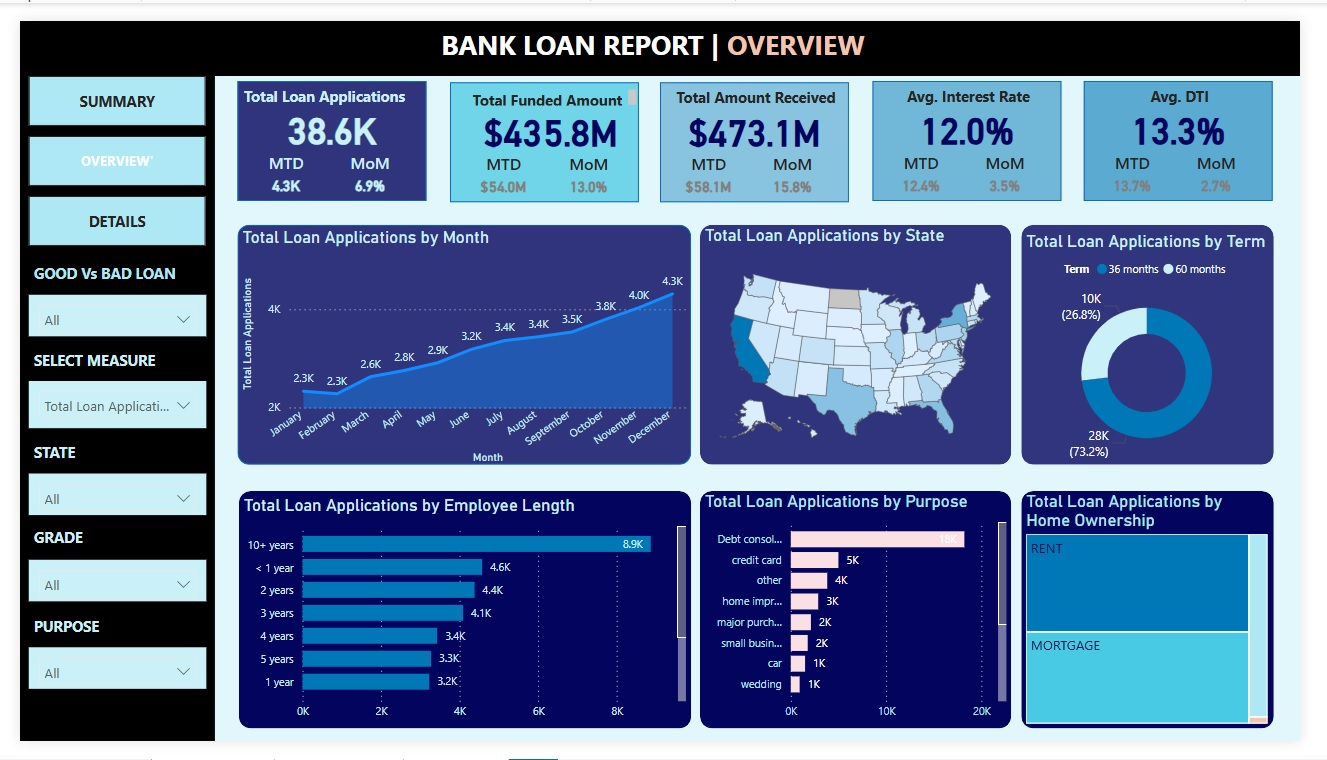

What the dashboard file says about the page in this screenshot:
{"tool":"powerbi","page":{"name":"OVERVIEW'","canvas":[1280,720],"ordinal":1},"visuals":[{"type":"shape","box":[217.8,59.5,189.2,120.2],"z":0,"group":"g1"},{"type":"shape","box":[852.1,59.5,189.2,120.2],"z":0,"group":"g4"},{"type":"shape","box":[1063.9,59.5,189.2,120.2],"z":0,"group":"g5"},{"type":"shape","box":[429.6,60.7,189.2,120.2],"z":0,"group":"g2"},{"type":"shape","box":[640.3,60.7,189.2,120.2],"z":0,"group":"g3"},{"type":"shape","box":[217.5,203.8,453.8,240],"z":0},{"type":"card","fields":{"Values":["Bank_Loan_Data.Total Loan Applications"]},"box":[217.8,84.5,189.2,45.2],"z":1000,"group":"g1"},{"type":"card","fields":{"Values":["Bank_Loan_Data.Avg Interest Rate"]},"box":[852.1,84.5,189.2,45.2],"z":1000,"group":"g4"},{"type":"card","fields":{"Values":["Bank_Loan_Data.Avg DTI"]},"box":[1063.9,84.5,189.2,45.2],"z":1000,"group":"g5"},{"type":"card","fields":{"Values":["Bank_Loan_Data.Total Funded Amount"]},"box":[435.6,85.7,189.2,45.2],"z":1000,"group":"g2"},{"type":"card","fields":{"Values":["Bank_Loan_Data.Total Amount Received"]},"box":[640.3,85.7,189.2,45.2],"z":1000,"group":"g3"},{"type":"shape","box":[0,0,1280.3,55],"z":2000},{"type":"textbox","box":[219,59.5,189.2,32.1],"z":2000,"group":"g1"},{"type":"textbox","box":[853.3,59.5,189.2,32.1],"z":2000,"group":"g4"},{"type":"textbox","box":[1065.1,59.5,189.2,32.1],"z":2000,"group":"g5"},{"type":"textbox","box":[641.5,60.7,189.2,32.1],"z":2000,"group":"g3"},{"type":"textbox","title":"Total Funded Amount","box":[447.3,63,173.8,26.2],"z":2000,"group":"g2"},{"type":"shape","box":[0,55.1,195,665.9],"z":3000},{"type":"card","title":"MTD","fields":{"Values":["Bank_Loan_Data.MTD Loan Applications"]},"box":[228.5,129.7,75,50],"z":3000,"group":"g1"},{"type":"card","title":"MTD","fields":{"Values":["Bank_Loan_Data.MTD Avg Interest Rate"]},"box":[862.8,129.7,75,50],"z":3000,"group":"g4"},{"type":"card","title":"MTD","fields":{"Values":["Bank_Loan_Data.MTD Avg DTI"]},"box":[1074.6,129.7,75,50],"z":3000,"group":"g5"},{"type":"card","title":"MTD","fields":{"Values":["Bank_Loan_Data.MTD Funded Amount"]},"box":[446.3,130.9,75,50],"z":3000,"group":"g2"},{"type":"card","title":"MTD","fields":{"Values":["Bank_Loan_Data.MTD Amount Received"]},"box":[651,130.9,75,50],"z":3000,"group":"g3"},{"type":"card","title":"MoM","fields":{"Values":["Bank_Loan_Data.MoM Loan Applications"]},"box":[313,129.7,75,50],"z":4000,"group":"g1"},{"type":"card","title":"MoM","fields":{"Values":["Bank_Loan_Data.MoM Avg Interest Rate"]},"box":[947.3,129.7,75,50],"z":4000,"group":"g4"},{"type":"card","title":"MoM","fields":{"Values":["Bank_Loan_Data.MoM Avg DTI"]},"box":[1159.1,129.7,75,50],"z":4000,"group":"g5"},{"type":"card","title":"MoM","fields":{"Values":["Bank_Loan_Data.MoM Total Funded Amount"]},"box":[530.8,130.9,75,50],"z":4000,"group":"g2"},{"type":"card","title":"MoM","fields":{"Values":["Bank_Loan_Data.MoM Total Amount Received"]},"box":[735.5,130.9,75,50],"z":4000,"group":"g3"},{"type":"textbox","box":[416.8,0,445.5,56.3],"z":5000},{"type":"group","id":"g1","title":"Group 1","box":[217.8,59.5,190.4,120.2],"z":6000},{"type":"group","id":"g2","title":"Group 1","box":[429.6,60.7,195.2,120.2],"z":7000},{"type":"group","id":"g3","title":"Group 1","box":[640.3,60.7,190.4,120.2],"z":8000},{"type":"group","id":"g4","title":"Group 1","box":[852.1,59.5,190.4,120.2],"z":9000},{"type":"group","id":"g5","title":"Group 1","box":[1063.9,59.5,190.4,120.2],"z":10000},{"type":"shape","box":[680,203.8,311.2,240],"z":11000},{"type":"shape","box":[218.8,470,452.5,237.5],"z":18000},{"type":"slicer","fields":{"Values":["Bank_Loan_Data.address_state"]},"box":[8.8,452.5,177.5,41.2],"z":20000},{"type":"textbox","box":[8.8,416.2,60,36.2],"z":21000},{"type":"slicer","fields":{"Values":["Bank_Loan_Data.grade"]},"box":[8.8,538.8,177.5,41.2],"z":22000},{"type":"slicer","fields":{"Values":["Bank_Loan_Data.purpose"]},"box":[8.8,626.2,177.5,41.2],"z":23000},{"type":"textbox","box":[8.8,501.2,76.2,37.5],"z":24000},{"type":"textbox","box":[8.8,590,88.8,36.2],"z":25000},{"type":"areaChart","fields":{"Category":["Date Table.Month"],"Y":["Bank_Loan_Data.Total Loan Applications"]},"box":[217.5,206.2,453.8,241.2],"z":25001},{"type":"slicer","fields":{"Values":["Select Measure.Select Measure"]},"box":[8.8,360,177.5,47.5],"z":25002},{"type":"shapeMap","fields":{"Category":["Bank_Loan_Data.address_state"],"Value":["Bank_Loan_Data.Total Loan Applications"]},"box":[680,203.8,311.2,243.8],"z":25003},{"type":"shape","box":[1001.2,203.8,252.5,240],"z":25004},{"type":"donutChart","fields":{"Category":["Bank_Loan_Data.term"],"Y":["Bank_Loan_Data.Total Loan Applications"]},"box":[1001.2,210,251.2,237.5],"z":25005},{"type":"shape","box":[680,470,311.2,237.5],"z":25006},{"type":"barChart","title":"Total Loan Applications by Employee Length","fields":{"Category":["Bank_Loan_Data.emp_length"],"Y":["Bank_Loan_Data.Total Loan Applications"]},"box":[218.8,473.8,452.5,233.8],"z":25007},{"type":"shape","box":[1001.2,470,252.5,237.5],"z":25008},{"type":"barChart","title":"Total Loan Applications by Purpose","fields":{"Category":["Bank_Loan_Data.purpose"],"Y":["Bank_Loan_Data.Total Loan Applications"]},"box":[680,470,311.2,237.5],"z":25009},{"type":"treemap","title":"Total Loan Applications by Home Ownership","fields":{"Group":["Bank_Loan_Data.home_ownership"],"Values":["Bank_Loan_Data.Total Loan Applications"]},"box":[1001.2,470,251.2,237.5],"z":25010},{"type":"slicer","fields":{"Values":["Bank_Loan_Data.Good Vs Bad Loan"]},"box":[8.8,273.8,177.5,41.2],"z":25011},{"type":"textbox","box":[8.8,323.8,143.8,36.2],"z":25012},{"type":"textbox","box":[8.8,237.5,177.5,36.2],"z":25013},{"type":"pageNavigator","box":[8.8,55,177.5,170],"z":25014}]}

Visuals, with their boxes in screenshot pixels (x1, y1, x2, y2), scaled from the page's 1280x720 canvas onto the 1327x760 screenshot:
shape: crop(226, 63, 422, 190)
shape: crop(883, 63, 1080, 190)
shape: crop(1103, 63, 1299, 190)
shape: crop(445, 64, 642, 191)
shape: crop(664, 64, 860, 191)
shape: crop(225, 215, 696, 468)
card - Bank_Loan_Data.Total Loan Applications: crop(226, 89, 422, 137)
card - Bank_Loan_Data.Avg Interest Rate: crop(883, 89, 1080, 137)
card - Bank_Loan_Data.Avg DTI: crop(1103, 89, 1299, 137)
card - Bank_Loan_Data.Total Funded Amount: crop(452, 90, 648, 138)
card - Bank_Loan_Data.Total Amount Received: crop(664, 90, 860, 138)
shape: crop(0, 0, 1326, 58)
textbox: crop(227, 63, 423, 97)
textbox: crop(885, 63, 1081, 97)
textbox: crop(1104, 63, 1300, 97)
textbox: crop(665, 64, 861, 98)
"Total Funded Amount" textbox: crop(464, 66, 644, 94)
shape: crop(0, 58, 202, 759)
"MTD" card: crop(237, 137, 315, 190)
"MTD" card: crop(894, 137, 972, 190)
"MTD" card: crop(1114, 137, 1192, 190)
"MTD" card: crop(463, 138, 540, 191)
"MTD" card: crop(675, 138, 753, 191)
"MoM" card: crop(324, 137, 402, 190)
"MoM" card: crop(982, 137, 1060, 190)
"MoM" card: crop(1202, 137, 1279, 190)
"MoM" card: crop(550, 138, 628, 191)
"MoM" card: crop(763, 138, 840, 191)
textbox: crop(432, 0, 894, 59)
"Group 1" group: crop(226, 63, 423, 190)
"Group 1" group: crop(445, 64, 648, 191)
"Group 1" group: crop(664, 64, 861, 191)
"Group 1" group: crop(883, 63, 1081, 190)
"Group 1" group: crop(1103, 63, 1300, 190)
shape: crop(705, 215, 1028, 468)
shape: crop(227, 496, 696, 747)
slicer - Bank_Loan_Data.address_state: crop(9, 478, 193, 521)
textbox: crop(9, 439, 71, 478)
slicer - Bank_Loan_Data.grade: crop(9, 569, 193, 612)
slicer - Bank_Loan_Data.purpose: crop(9, 661, 193, 704)
textbox: crop(9, 529, 88, 569)
textbox: crop(9, 623, 101, 661)
areaChart - Date Table.Month x Bank_Loan_Data.Total Loan Applications: crop(225, 218, 696, 472)
slicer - Select Measure.Select Measure: crop(9, 380, 193, 430)
shapeMap - Bank_Loan_Data.address_state x Bank_Loan_Data.Total Loan Applications: crop(705, 215, 1028, 472)
shape: crop(1038, 215, 1300, 468)
donutChart - Bank_Loan_Data.term x Bank_Loan_Data.Total Loan Applications: crop(1038, 222, 1298, 472)
shape: crop(705, 496, 1028, 747)
"Total Loan Applications by Employee Length" barChart: crop(227, 500, 696, 747)
shape: crop(1038, 496, 1300, 747)
"Total Loan Applications by Purpose" barChart: crop(705, 496, 1028, 747)
"Total Loan Applications by Home Ownership" treemap: crop(1038, 496, 1298, 747)
slicer - Bank_Loan_Data.Good Vs Bad Loan: crop(9, 289, 193, 332)
textbox: crop(9, 342, 158, 380)
textbox: crop(9, 251, 193, 289)
pageNavigator: crop(9, 58, 193, 238)
